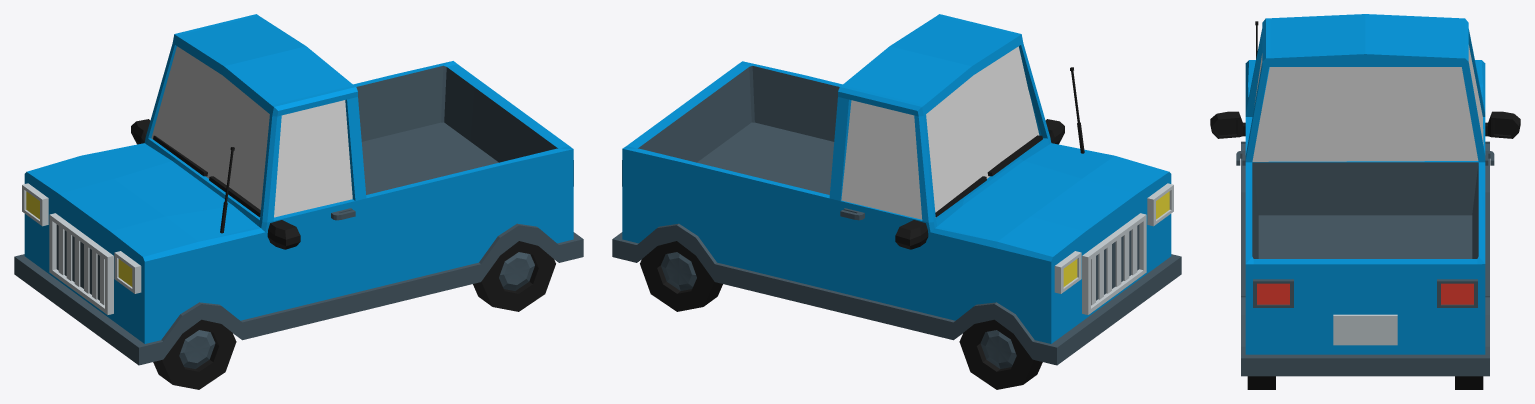
Rendered from Truck.glb.
3 renders of one model, left to right at view 1: azimuth 30°, elevation 25°; view 2: azimuth 150°, elevation 25°; view 3: azimuth 270°, elevation 25°, orthographic.
Parts seen in each view (by area): view 1: car_01_Cube.000, Plane, Plane.002; view 2: car_01_Cube.000, Plane, Plane.001; view 3: car_01_Cube.000, Plane.003, Plane.001.
Part boxes in pixels (x1,y1,x2,y2): car_01_Cube.000: (14, 14, 583, 389); Plane: (151, 46, 269, 209); Plane.002: (274, 100, 352, 217); car_01_Cube.000: (612, 14, 1181, 389); Plane: (926, 46, 1039, 217); Plane.001: (841, 100, 922, 219); car_01_Cube.000: (1210, 14, 1520, 389); Plane.003: (1252, 67, 1478, 161); Plane.001: (1468, 45, 1483, 145).
Bounding box in the file's own units: 3.53 × 1.97 × 2.13.
